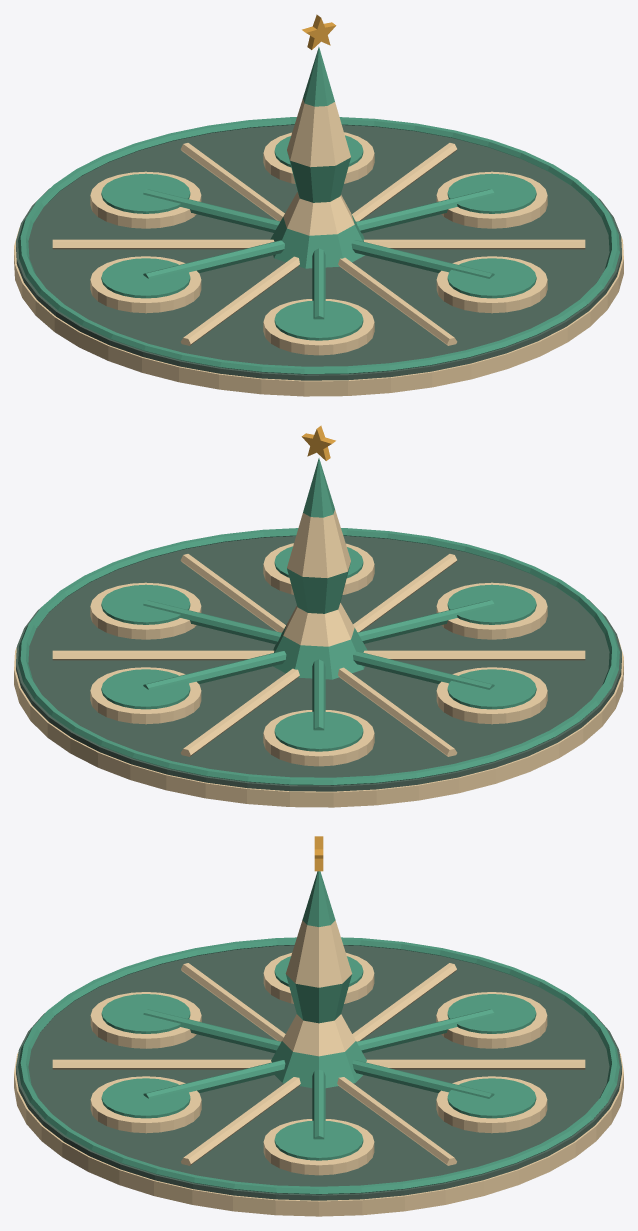
The model's file is ParkParkSnowflakeHub.obj.
3 renders of one model, top to bottom at view 1: azimuth 30°, elevation 25°; view 2: azimuth 150°, elevation 25°; view 3: azimuth 270°, elevation 25°, orthographic.
Parts seen in each view (by area): view 1: ParkParkSnowflakeHub; view 2: ParkParkSnowflakeHub; view 3: ParkParkSnowflakeHub.
Part boxes in pixels (x1=…): ParkParkSnowflakeHub: x1=14, y1=14, x2=623, y2=396; ParkParkSnowflakeHub: x1=14, y1=425, x2=623, y2=807; ParkParkSnowflakeHub: x1=14, y1=836, x2=623, y2=1216.
Size of the model in its own units: 16.5 by 7.5 by 16.5.
